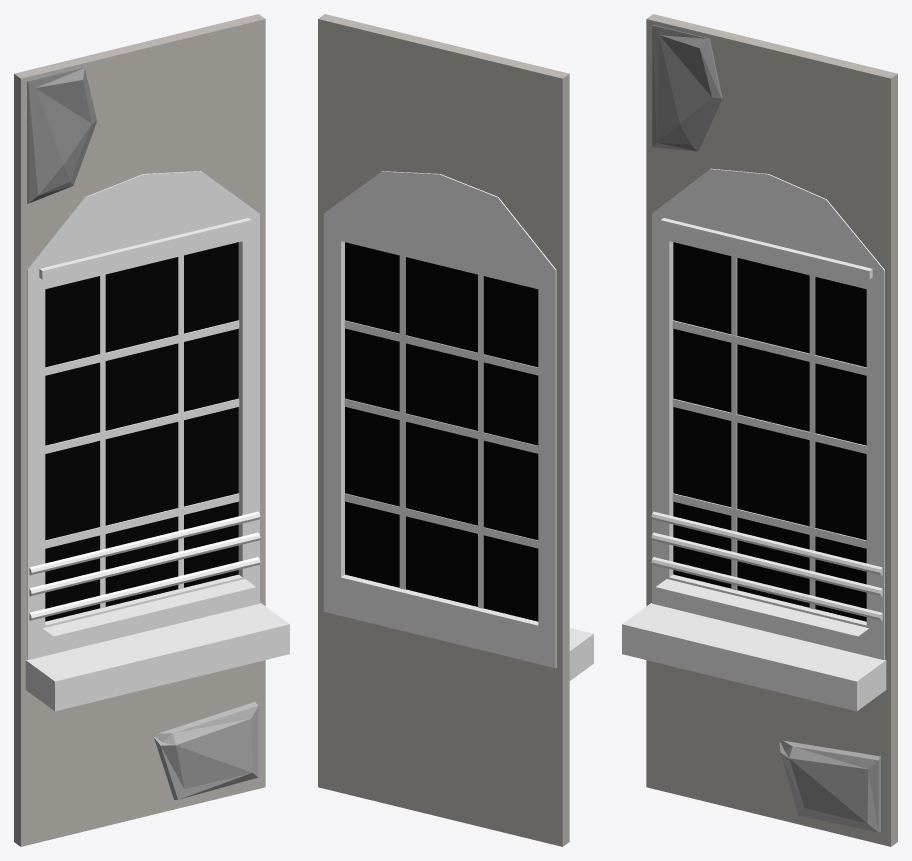
File: _WINDOW_01_1.fbx
3 renders of one model, left to right at view 1: azimuth 30°, elevation 25°; view 2: azimuth 150°, elevation 25°; view 3: azimuth 330°, elevation 25°, orthographic.
Visible parts, largest first — view 1: WINDOW_01_1; view 2: WINDOW_01_1; view 3: WINDOW_01_1.
Boxes of the visible parts, box(x1,y1,x2,y2) form: WINDOW_01_1: box(14, 14, 289, 846); WINDOW_01_1: box(318, 14, 593, 846); WINDOW_01_1: box(622, 14, 897, 846).
Bounding box in the file's own units: 100 × 300 × 26.08.
